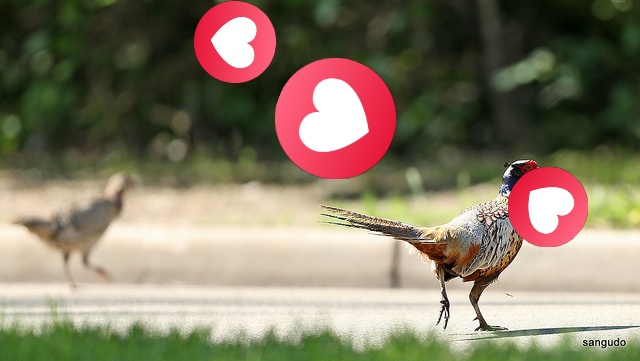love: (275, 58, 396, 179), (194, 1, 276, 83), (508, 167, 588, 247)
